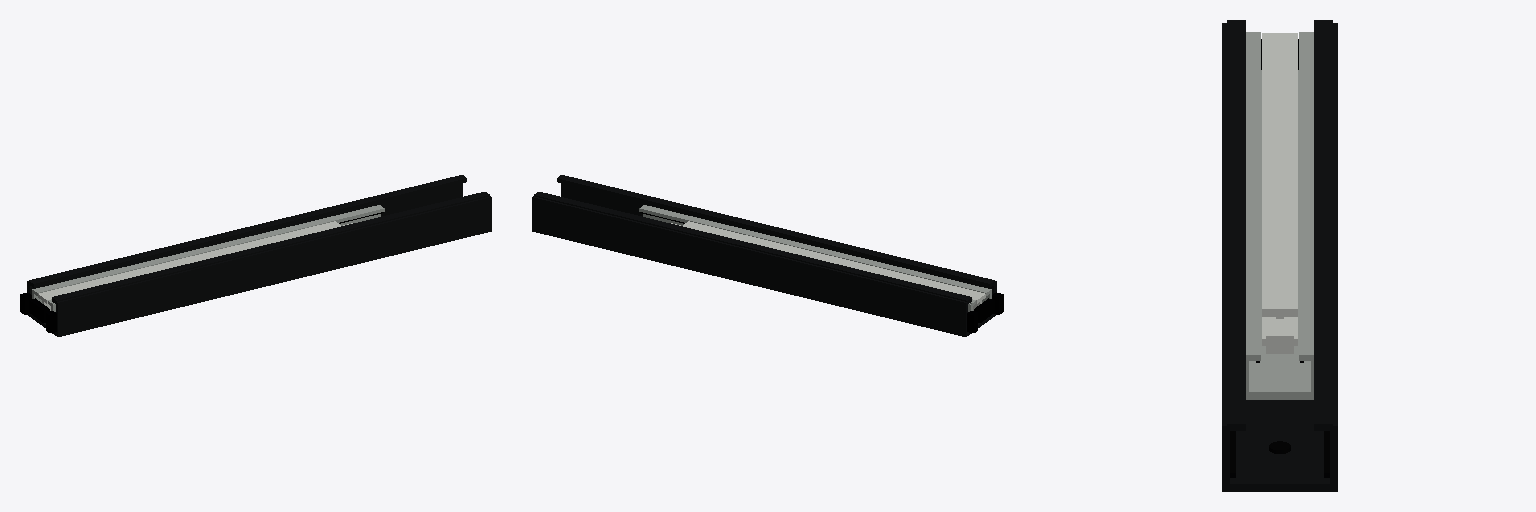
URDF robot description (nested_two_stage_slide_chain):
<robot name="nested_two_stage_slide_chain">
  <link name="guide">
    <visual name="base_web">
      <origin xyz="0.35 0 0.003" rpy="0 0 0" />
      <geometry>
        <box size="0.7 0.085 0.006" />
        </geometry>
      <material name="blackened_steel">
        <color rgba="0.08 0.085 0.09 1" />
        </material>
      </visual>
    <visual name="rail_pos_wall">
      <origin xyz="0.35 0.0395 0.028" rpy="0 0 0" />
      <geometry>
        <box size="0.7 0.006 0.05" />
        </geometry>
      <material name="blackened_steel">
        <color rgba="0.08 0.085 0.09 1" />
        </material>
      </visual>
    <visual name="rail_pos_return_lip">
      <origin xyz="0.35 0.032 0.052" rpy="0 0 0" />
      <geometry>
        <box size="0.7 0.014 0.006" />
        </geometry>
      <material name="blackened_steel">
        <color rgba="0.08 0.085 0.09 1" />
        </material>
      </visual>
    <visual name="rail_pos_wear_strip">
      <origin xyz="0.355 0.0345 0.013" rpy="0 0 0" />
      <geometry>
        <box size="0.69 0.004 0.004" />
        </geometry>
      <material name="graphite_wear_pad">
        <color rgba="0.025 0.026 0.028 1" />
        </material>
      </visual>
    <visual name="rail_neg_wall">
      <origin xyz="0.35 -0.0395 0.028" rpy="0 0 0" />
      <geometry>
        <box size="0.7 0.006 0.05" />
        </geometry>
      <material name="blackened_steel">
        <color rgba="0.08 0.085 0.09 1" />
        </material>
      </visual>
    <visual name="rail_neg_return_lip">
      <origin xyz="0.35 -0.032 0.052" rpy="0 0 0" />
      <geometry>
        <box size="0.7 0.014 0.006" />
        </geometry>
      <material name="blackened_steel">
        <color rgba="0.08 0.085 0.09 1" />
        </material>
      </visual>
    <visual name="rail_neg_wear_strip">
      <origin xyz="0.355 -0.0345 0.013" rpy="0 0 0" />
      <geometry>
        <box size="0.69 0.004 0.004" />
        </geometry>
      <material name="graphite_wear_pad">
        <color rgba="0.025 0.026 0.028 1" />
        </material>
      </visual>
    <visual name="rear_bumper_0">
      <origin xyz="-0.006 0.035 0.022" rpy="0 0 0" />
      <geometry>
        <box size="0.012 0.012 0.028" />
        </geometry>
      <material name="black_rubber_stop">
        <color rgba="0.01 0.01 0.012 1" />
        </material>
      </visual>
    <visual name="rear_bumper_1">
      <origin xyz="-0.006 -0.035 0.022" rpy="0 0 0" />
      <geometry>
        <box size="0.012 0.012 0.028" />
        </geometry>
      <material name="black_rubber_stop">
        <color rgba="0.01 0.01 0.012 1" />
        </material>
      </visual>
    <visual name="mount_screw_0">
      <origin xyz="0.06 0 0.0075" rpy="0 0 0" />
      <geometry>
        <cylinder radius="0.008" length="0.003" />
        </geometry>
      <material name="graphite_wear_pad">
        <color rgba="0.025 0.026 0.028 1" />
        </material>
      </visual>
    <visual name="mount_screw_1">
      <origin xyz="0.64 0 0.0075" rpy="0 0 0" />
      <geometry>
        <cylinder radius="0.008" length="0.003" />
        </geometry>
      <material name="graphite_wear_pad">
        <color rgba="0.025 0.026 0.028 1" />
        </material>
      </visual>
    <collision name="base_web">
      <origin xyz="0.35 0 0.003" rpy="0 0 0" />
      <geometry>
        <box size="0.7 0.085 0.006" />
        </geometry>
      </collision>
    <collision name="rail_pos_wall">
      <origin xyz="0.35 0.0395 0.028" rpy="0 0 0" />
      <geometry>
        <box size="0.7 0.006 0.05" />
        </geometry>
      </collision>
    <collision name="rail_pos_return_lip">
      <origin xyz="0.35 0.032 0.052" rpy="0 0 0" />
      <geometry>
        <box size="0.7 0.014 0.006" />
        </geometry>
      </collision>
    <collision name="rail_pos_wear_strip">
      <origin xyz="0.355 0.0345 0.013" rpy="0 0 0" />
      <geometry>
        <box size="0.69 0.004 0.004" />
        </geometry>
      </collision>
    <collision name="rail_neg_wall">
      <origin xyz="0.35 -0.0395 0.028" rpy="0 0 0" />
      <geometry>
        <box size="0.7 0.006 0.05" />
        </geometry>
      </collision>
    <collision name="rail_neg_return_lip">
      <origin xyz="0.35 -0.032 0.052" rpy="0 0 0" />
      <geometry>
        <box size="0.7 0.014 0.006" />
        </geometry>
      </collision>
    <collision name="rail_neg_wear_strip">
      <origin xyz="0.355 -0.0345 0.013" rpy="0 0 0" />
      <geometry>
        <box size="0.69 0.004 0.004" />
        </geometry>
      </collision>
    <collision name="rear_bumper_0">
      <origin xyz="-0.006 0.035 0.022" rpy="0 0 0" />
      <geometry>
        <box size="0.012 0.012 0.028" />
        </geometry>
      </collision>
    <collision name="rear_bumper_1">
      <origin xyz="-0.006 -0.035 0.022" rpy="0 0 0" />
      <geometry>
        <box size="0.012 0.012 0.028" />
        </geometry>
      </collision>
    <collision name="mount_screw_0">
      <origin xyz="0.06 0 0.0075" rpy="0 0 0" />
      <geometry>
        <cylinder radius="0.008" length="0.003" />
        </geometry>
      </collision>
    <collision name="mount_screw_1">
      <origin xyz="0.64 0 0.0075" rpy="0 0 0" />
      <geometry>
        <cylinder radius="0.008" length="0.003" />
        </geometry>
      </collision>
    </link>
  <link name="middle_runner">
    <visual name="lower_web">
      <origin xyz="0.28 0 0.012" rpy="0 0 0" />
      <geometry>
        <box size="0.56 0.052 0.006" />
        </geometry>
      <material name="zinc_plated_steel">
        <color rgba="0.62 0.64 0.62 1" />
        </material>
      </visual>
    <visual name="rail_pos_rib">
      <origin xyz="0.28 0.026 0.03" rpy="0 0 0" />
      <geometry>
        <box size="0.56 0.006 0.03" />
        </geometry>
      <material name="zinc_plated_steel">
        <color rgba="0.62 0.64 0.62 1" />
        </material>
      </visual>
    <visual name="rail_pos_inner_lip">
      <origin xyz="0.28 0.02 0.043" rpy="0 0 0" />
      <geometry>
        <box size="0.56 0.012 0.005" />
        </geometry>
      <material name="zinc_plated_steel">
        <color rgba="0.62 0.64 0.62 1" />
        </material>
      </visual>
    <visual name="rail_pos_inner_wear_strip">
      <origin xyz="0.29 0.016 0.04" rpy="0 0 0" />
      <geometry>
        <box size="0.54 0.003 0.003" />
        </geometry>
      <material name="graphite_wear_pad">
        <color rgba="0.025 0.026 0.028 1" />
        </material>
      </visual>
    <visual name="rail_neg_rib">
      <origin xyz="0.28 -0.026 0.03" rpy="0 0 0" />
      <geometry>
        <box size="0.56 0.006 0.03" />
        </geometry>
      <material name="zinc_plated_steel">
        <color rgba="0.62 0.64 0.62 1" />
        </material>
      </visual>
    <visual name="rail_neg_inner_lip">
      <origin xyz="0.28 -0.02 0.043" rpy="0 0 0" />
      <geometry>
        <box size="0.56 0.012 0.005" />
        </geometry>
      <material name="zinc_plated_steel">
        <color rgba="0.62 0.64 0.62 1" />
        </material>
      </visual>
    <visual name="rail_neg_inner_wear_strip">
      <origin xyz="0.29 -0.016 0.04" rpy="0 0 0" />
      <geometry>
        <box size="0.54 0.003 0.003" />
        </geometry>
      <material name="graphite_wear_pad">
        <color rgba="0.025 0.026 0.028 1" />
        </material>
      </visual>
    <visual name="rear_stop">
      <origin xyz="-0.005 0 0.025" rpy="0 0 0" />
      <geometry>
        <box size="0.01 0.04 0.02" />
        </geometry>
      <material name="black_rubber_stop">
        <color rgba="0.01 0.01 0.012 1" />
        </material>
      </visual>
    <collision name="lower_web">
      <origin xyz="0.28 0 0.012" rpy="0 0 0" />
      <geometry>
        <box size="0.56 0.052 0.006" />
        </geometry>
      </collision>
    <collision name="rail_pos_rib">
      <origin xyz="0.28 0.026 0.03" rpy="0 0 0" />
      <geometry>
        <box size="0.56 0.006 0.03" />
        </geometry>
      </collision>
    <collision name="rail_pos_inner_lip">
      <origin xyz="0.28 0.02 0.043" rpy="0 0 0" />
      <geometry>
        <box size="0.56 0.012 0.005" />
        </geometry>
      </collision>
    <collision name="rail_pos_inner_wear_strip">
      <origin xyz="0.29 0.016 0.04" rpy="0 0 0" />
      <geometry>
        <box size="0.54 0.003 0.003" />
        </geometry>
      </collision>
    <collision name="rail_neg_rib">
      <origin xyz="0.28 -0.026 0.03" rpy="0 0 0" />
      <geometry>
        <box size="0.56 0.006 0.03" />
        </geometry>
      </collision>
    <collision name="rail_neg_inner_lip">
      <origin xyz="0.28 -0.02 0.043" rpy="0 0 0" />
      <geometry>
        <box size="0.56 0.012 0.005" />
        </geometry>
      </collision>
    <collision name="rail_neg_inner_wear_strip">
      <origin xyz="0.29 -0.016 0.04" rpy="0 0 0" />
      <geometry>
        <box size="0.54 0.003 0.003" />
        </geometry>
      </collision>
    <collision name="rear_stop">
      <origin xyz="-0.005 0 0.025" rpy="0 0 0" />
      <geometry>
        <box size="0.01 0.04 0.02" />
        </geometry>
      </collision>
    </link>
  <link name="inner_runner">
    <visual name="center_web">
      <origin xyz="0.24 0 0.03" rpy="0 0 0" />
      <geometry>
        <box size="0.48 0.006 0.03" />
        </geometry>
      <material name="polished_runner">
        <color rgba="0.78 0.79 0.77 1" />
        </material>
      </visual>
    <visual name="lower_flange">
      <origin xyz="0.24 0 0.018" rpy="0 0 0" />
      <geometry>
        <box size="0.48 0.026 0.006" />
        </geometry>
      <material name="polished_runner">
        <color rgba="0.78 0.79 0.77 1" />
        </material>
      </visual>
    <visual name="upper_flange">
      <origin xyz="0.24 0 0.042" rpy="0 0 0" />
      <geometry>
        <box size="0.48 0.026 0.006" />
        </geometry>
      <material name="polished_runner">
        <color rgba="0.78 0.79 0.77 1" />
        </material>
      </visual>
    <visual name="front_pull_tab">
      <origin xyz="0.495 0 0.03" rpy="0 0 0" />
      <geometry>
        <box size="0.03 0.02 0.014" />
        </geometry>
      <material name="polished_runner">
        <color rgba="0.78 0.79 0.77 1" />
        </material>
      </visual>
    <collision name="center_web">
      <origin xyz="0.24 0 0.03" rpy="0 0 0" />
      <geometry>
        <box size="0.48 0.006 0.03" />
        </geometry>
      </collision>
    <collision name="lower_flange">
      <origin xyz="0.24 0 0.018" rpy="0 0 0" />
      <geometry>
        <box size="0.48 0.026 0.006" />
        </geometry>
      </collision>
    <collision name="upper_flange">
      <origin xyz="0.24 0 0.042" rpy="0 0 0" />
      <geometry>
        <box size="0.48 0.026 0.006" />
        </geometry>
      </collision>
    <collision name="front_pull_tab">
      <origin xyz="0.495 0 0.03" rpy="0 0 0" />
      <geometry>
        <box size="0.03 0.02 0.014" />
        </geometry>
      </collision>
    </link>
  <joint name="guide_to_middle" type="prismatic">
    <parent link="guide" />
    <child link="middle_runner" />
    <axis xyz="1 0 0" />
    <limit effort="80" velocity="0.35" lower="0" upper="0.28" />
    </joint>
  <joint name="middle_to_inner" type="prismatic">
    <parent link="middle_runner" />
    <child link="inner_runner" />
    <axis xyz="1 0 0" />
    <limit effort="60" velocity="0.35" lower="0" upper="0.28" />
    </joint>
  </robot>

--- What the picture shows (computed from the rendered views, not written in the file) ---
3 views of the same robot in one strip: view 1: azimuth 30°, elevation 25°; view 2: azimuth 150°, elevation 25°; view 3: azimuth 270°, elevation 25° (orthographic).
Robot: nested_two_stage_slide_chain — 3 links, 2 joints (2 prismatic); root link guide; default pose: every joint at zero.
Visible links, largest first — view 1: guide, middle_runner, inner_runner; view 2: guide, middle_runner, inner_runner; view 3: guide, middle_runner, inner_runner.
Boxes of the visible links, x1=… form: guide: x1=20, y1=175, x2=491, y2=336; middle_runner: x1=29, y1=205, x2=384, y2=322; inner_runner: x1=38, y1=221, x2=352, y2=310; guide: x1=532, y1=175, x2=1003, y2=336; middle_runner: x1=639, y1=205, x2=994, y2=322; inner_runner: x1=671, y1=221, x2=985, y2=310; guide: x1=1222, y1=20, x2=1337, y2=491; middle_runner: x1=1246, y1=32, x2=1313, y2=399; inner_runner: x1=1262, y1=33, x2=1297, y2=353.
Size in the robot's own frame: 0.712 by 0.085 by 0.055 metres.
Geometry: primitives only (box / cylinder / sphere), no mesh files.
